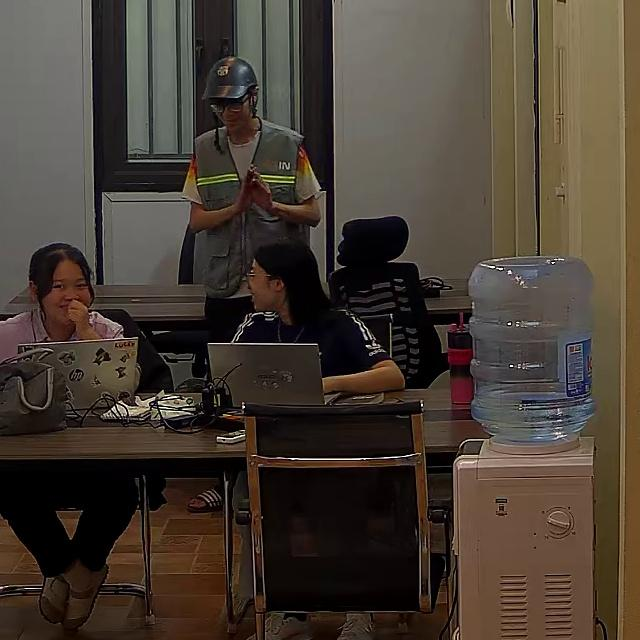helmet: (201, 55, 260, 101)
no_helmet: (253, 241, 329, 326), (28, 243, 94, 306)
none: (227, 305, 390, 381), (0, 309, 123, 378)
vest: (194, 127, 305, 291)
